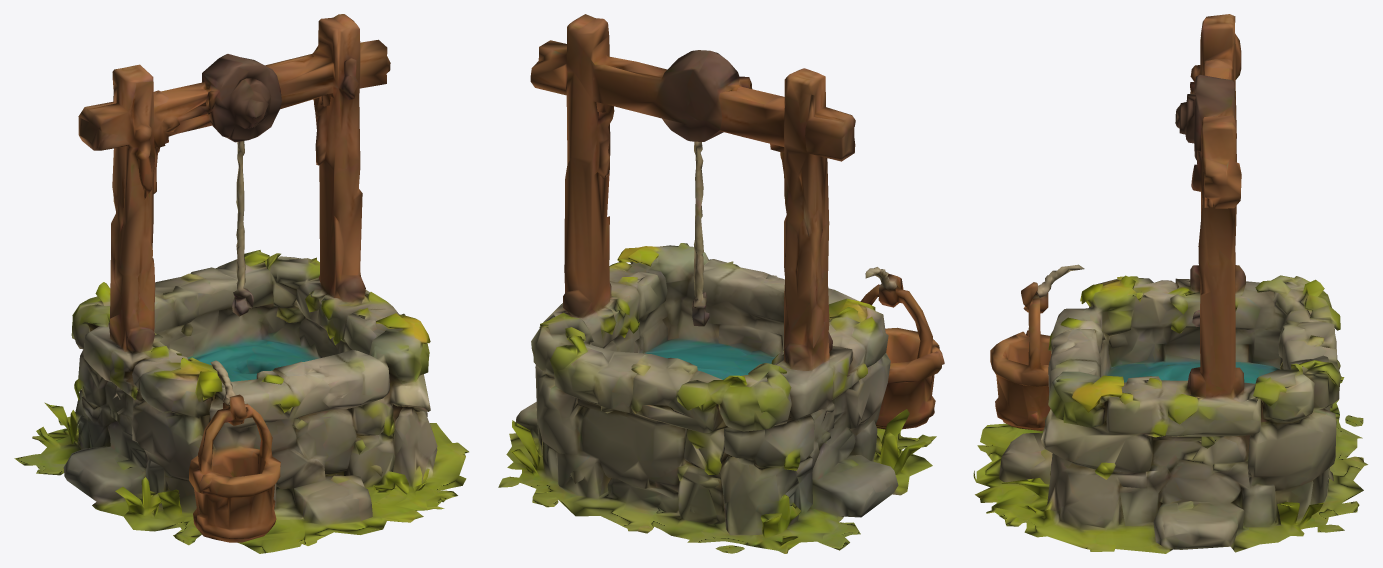
Rendered from well_lo.glb.
3 views of the same model, side by side, from view 1: azimuth 30°, elevation 25°; view 2: azimuth 150°, elevation 25°; view 3: azimuth 270°, elevation 25° (orthographic). The views are drawn at different scales.
Parts seen in each view (by area): view 1: tripo_node_9b7ce8a7-f150-4cd8-83ec-5d6def738b49; view 2: tripo_node_9b7ce8a7-f150-4cd8-83ec-5d6def738b49; view 3: tripo_node_9b7ce8a7-f150-4cd8-83ec-5d6def738b49.
Part boxes in pixels (x1,y1,x2,y2): tripo_node_9b7ce8a7-f150-4cd8-83ec-5d6def738b49: (14,14,468,553); tripo_node_9b7ce8a7-f150-4cd8-83ec-5d6def738b49: (498,14,944,553); tripo_node_9b7ce8a7-f150-4cd8-83ec-5d6def738b49: (973,14,1367,553).
Bounding box in the file's own units: 0.9113 × 0.9985 × 0.8861.
Materials: 1 (1 with a texture image).
